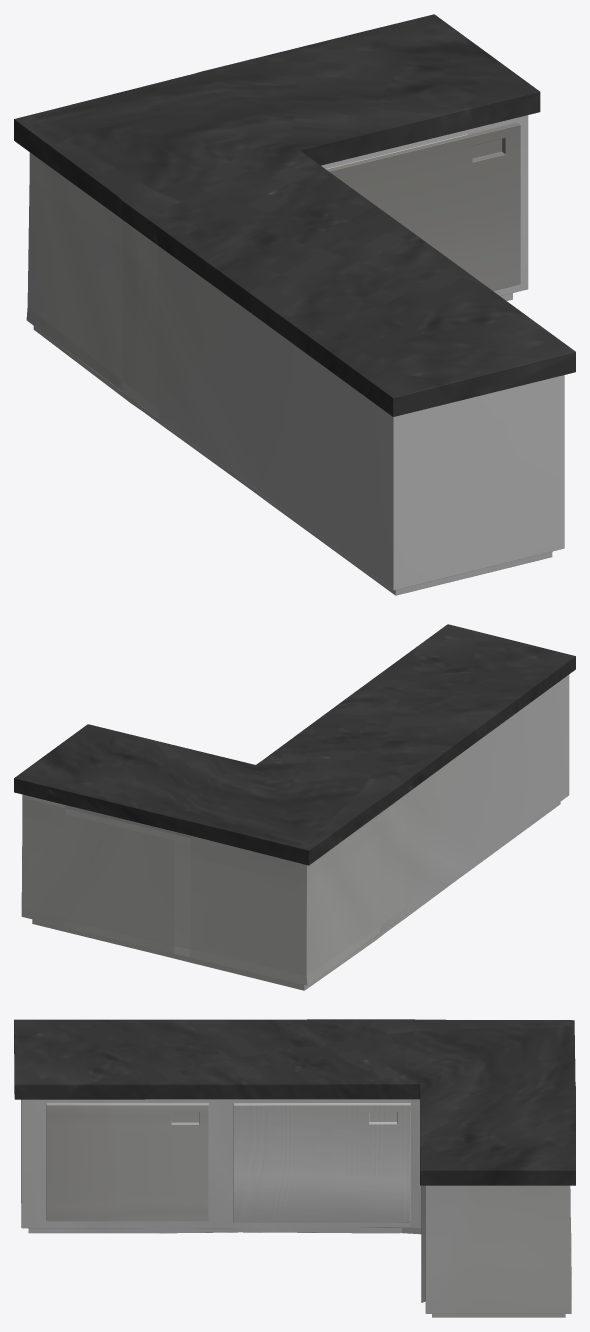
Rendered from plan_de_travail_3.fbx.
3 views of the same model, one above another, from view 1: azimuth 30°, elevation 25°; view 2: azimuth 150°, elevation 25°; view 3: azimuth 270°, elevation 25° (orthographic). The views are drawn at different scales.
Parts seen in each view (by area): view 1: plan_de_travail; view 2: plan_de_travail; view 3: plan_de_travail.
Part boxes in pixels (x1,y1,x2,y2): plan_de_travail: (14, 14, 575, 595); plan_de_travail: (14, 624, 575, 990); plan_de_travail: (14, 1019, 575, 1317).
Size of the model in its own units: 84.77 by 40.21 by 132.
